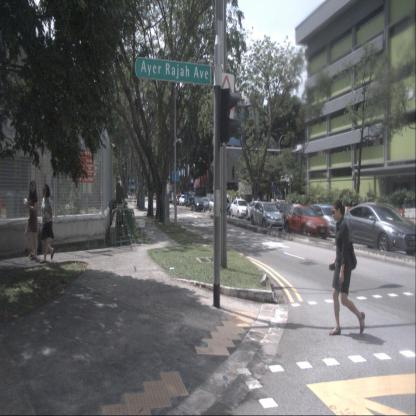barrier: (404, 208, 415, 226)
